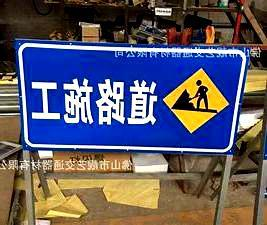sign: (18, 38, 239, 155)
